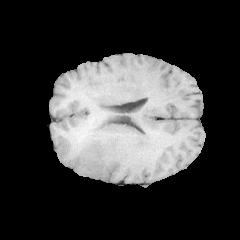glioma: (62, 96, 167, 179)
